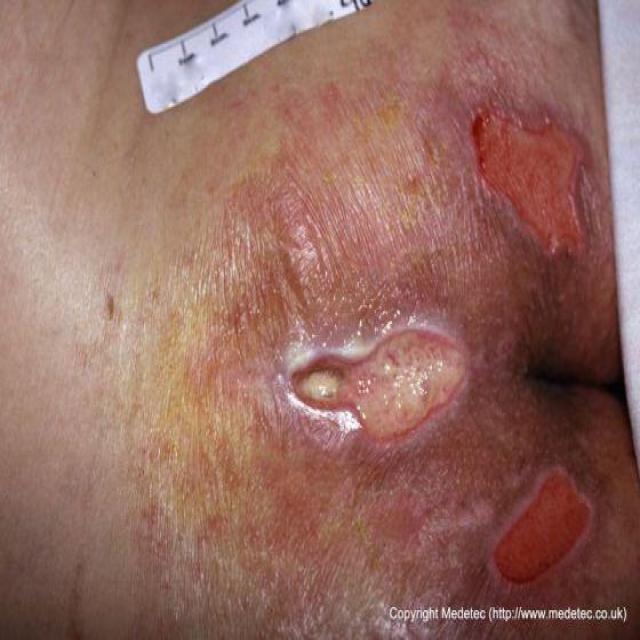Unstageable: (292, 329, 465, 439)
stage-2: (472, 112, 584, 259), (494, 470, 589, 580)
